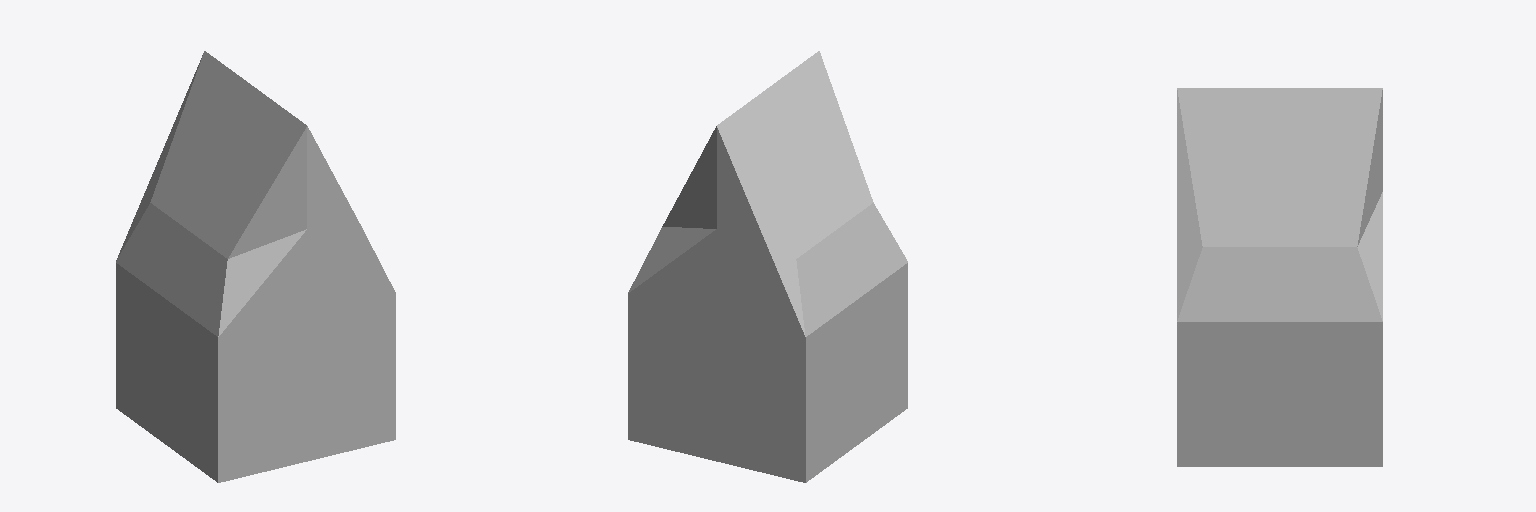
File: lilhouse.obj
3 views of the same model, side by side, from view 1: azimuth 30°, elevation 25°; view 2: azimuth 150°, elevation 25°; view 3: azimuth 270°, elevation 25° (orthographic).
Parts seen in each view (by area): view 1: house_Cube; view 2: house_Cube; view 3: house_Cube.
Boxes of the visible parts, x1=… form: house_Cube: x1=116, y1=51, x2=395, y2=482; house_Cube: x1=628, y1=51, x2=907, y2=482; house_Cube: x1=1177, y1=88, x2=1382, y2=466.
Size of the model in its own units: 2 by 3.6 by 2.